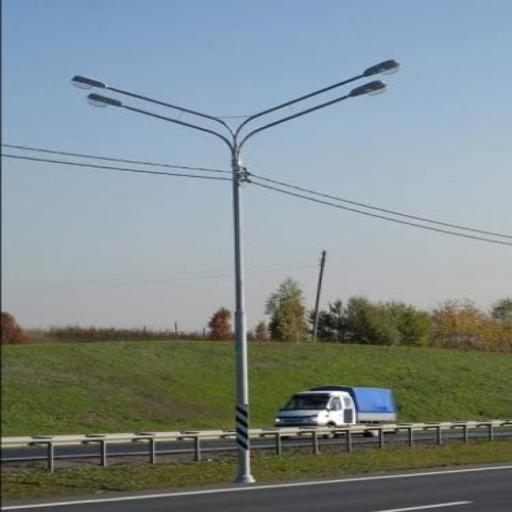odn_pole: (70, 60, 400, 484)
